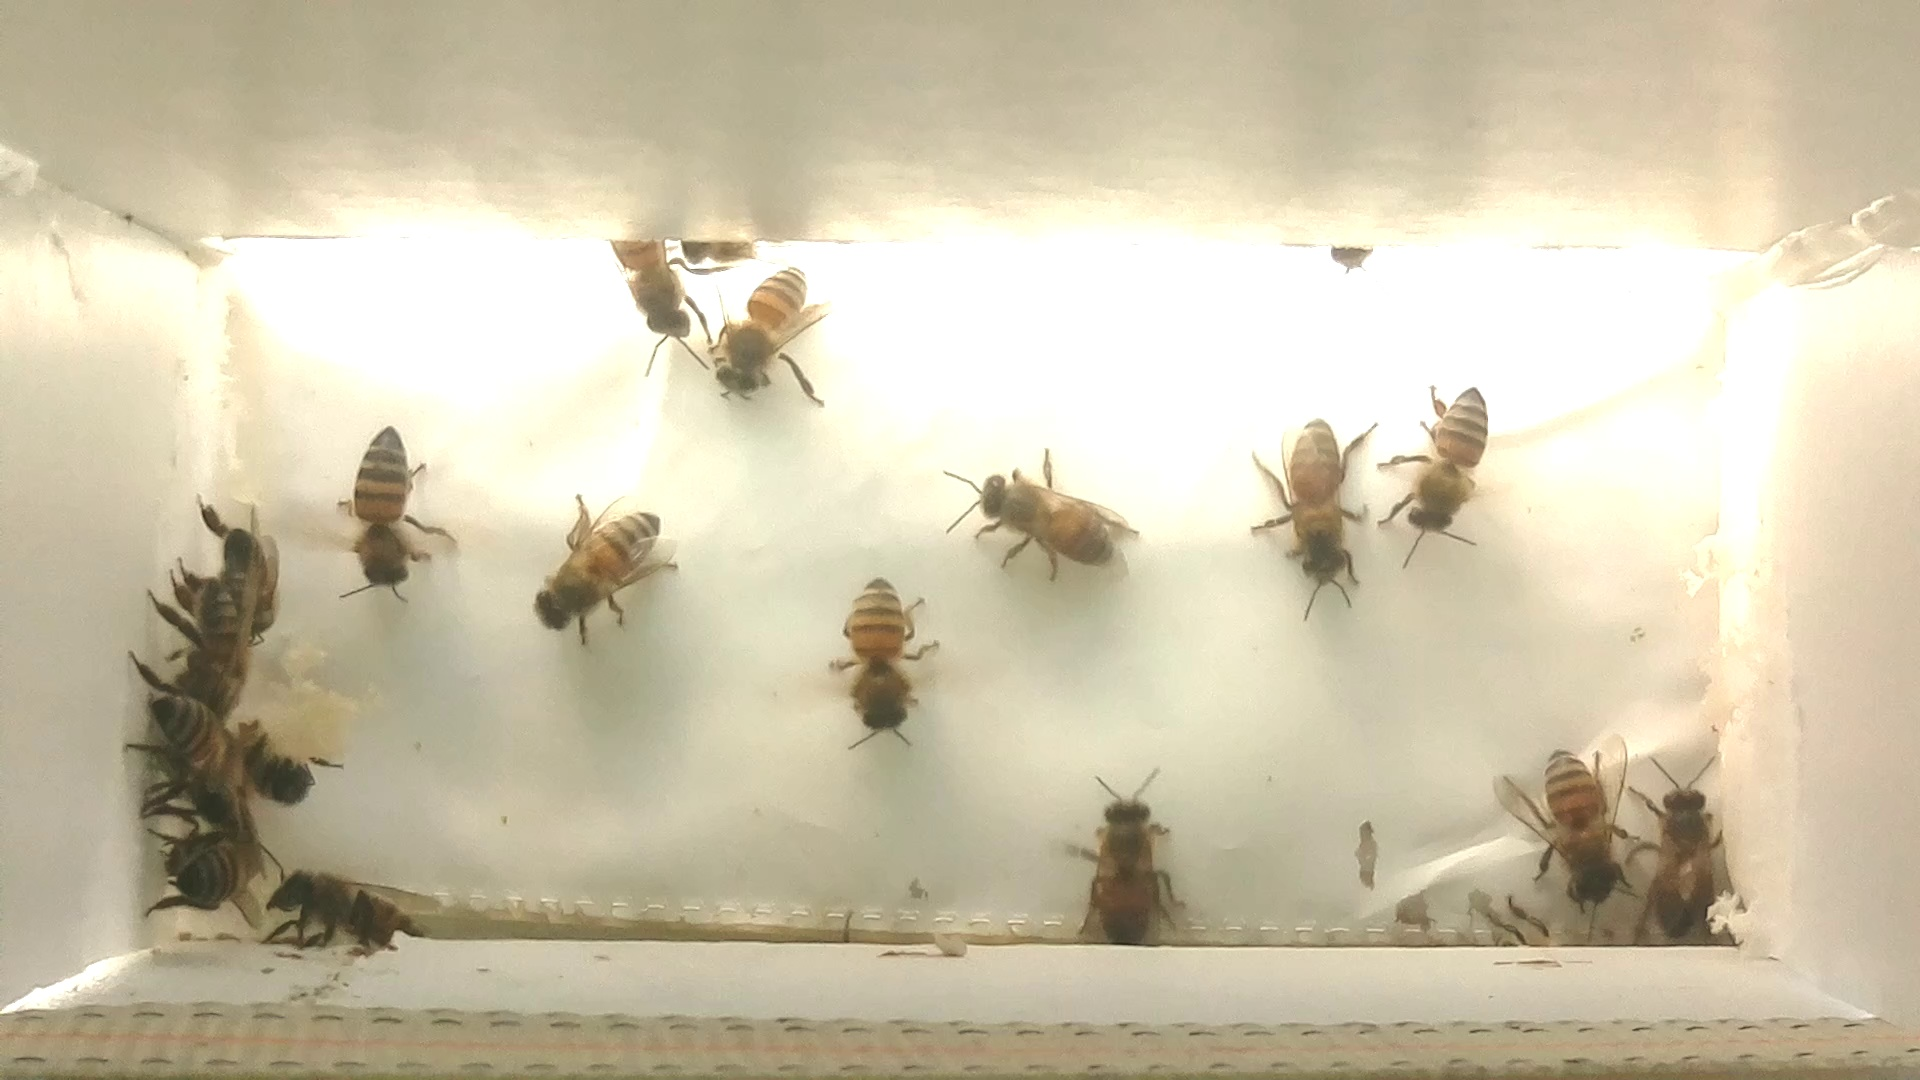bee: (506, 479, 705, 655), (920, 435, 1149, 588), (1048, 745, 1204, 965), (305, 415, 465, 625), (1370, 364, 1520, 584), (1226, 388, 1379, 596), (1494, 721, 1638, 918), (814, 563, 951, 767), (694, 249, 836, 425), (1621, 750, 1745, 945), (574, 216, 709, 380), (245, 848, 435, 964), (181, 496, 301, 655), (150, 571, 268, 709), (141, 806, 280, 919), (113, 659, 236, 779)
